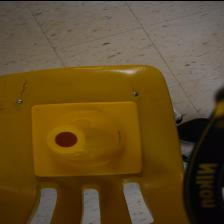cone: (32, 100, 142, 176)
